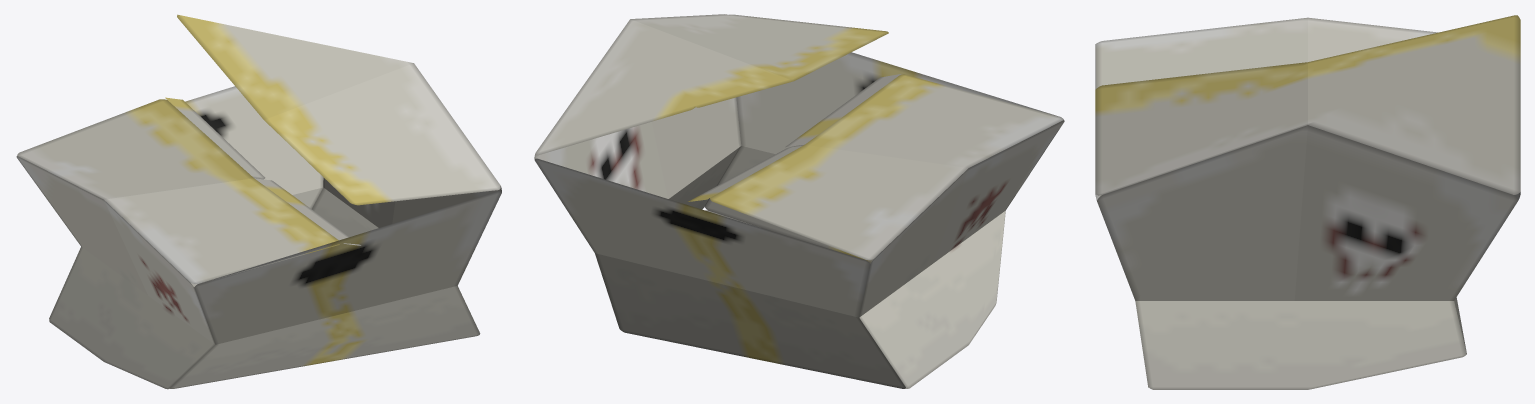
Rendered from BoxBroken3.fbx.
3 renders of one model, left to right at view 1: azimuth 30°, elevation 25°; view 2: azimuth 150°, elevation 25°; view 3: azimuth 270°, elevation 25°, orthographic. The views are drawn at different scales.
Parts seen in each view (by area): view 1: BoxBroken3; view 2: BoxBroken3; view 3: BoxBroken3.
Part boxes in pixels (x1,y1,x2,y2): BoxBroken3: (16,14,501,389); BoxBroken3: (534,14,1064,388); BoxBroken3: (1095,15,1520,389).
Size of the model in its own units: 100 by 75 by 100.
Materials: 1 (1 with a texture image).
